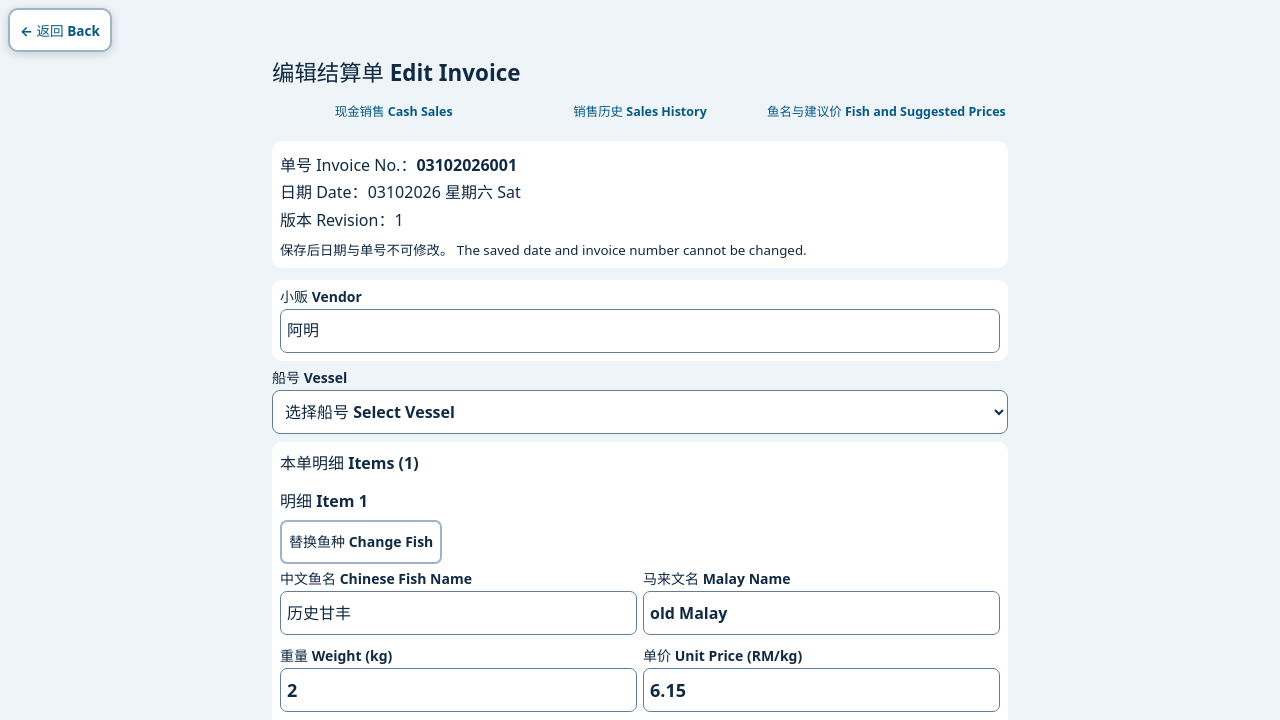
it: Retail 30-day editing › protects a genuine edit and clears the guard only after the update succeeds
Replace the text in the field labelled "小贩 Vendor" with "修改小贩". click: (640, 331)
box: [280,309,1000,353]
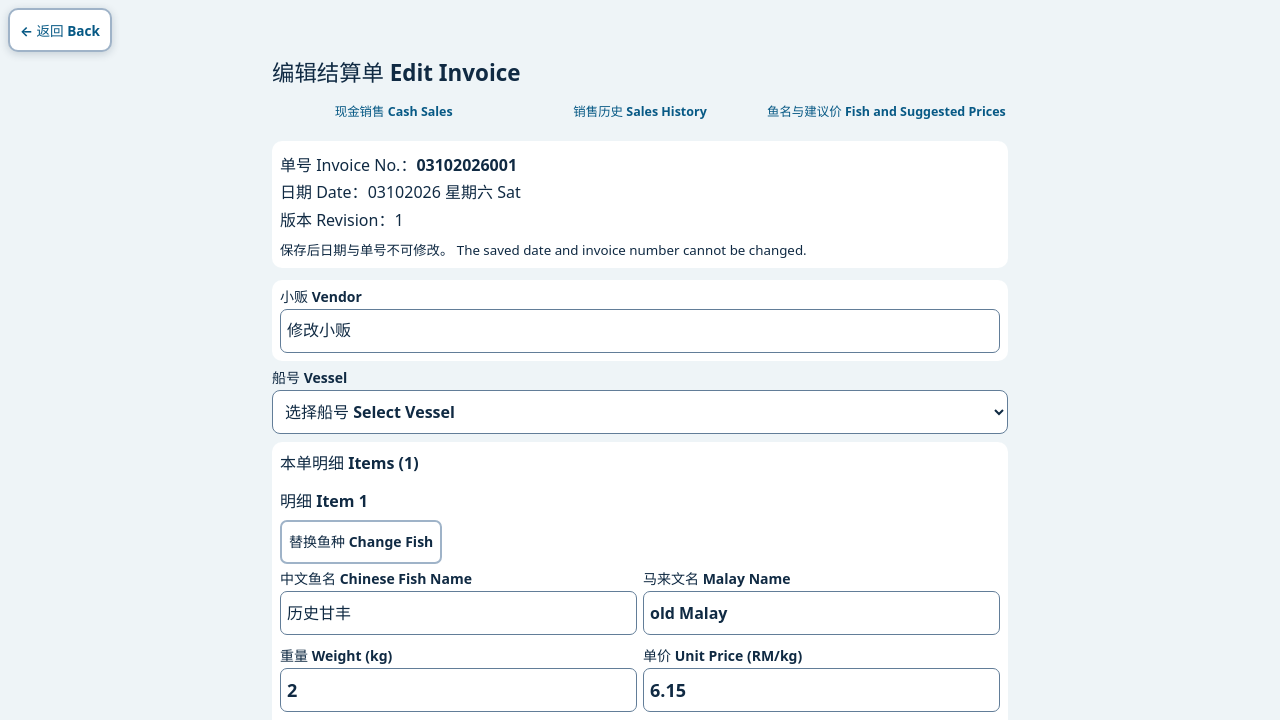
Click the button "← 返回 Back". click: click(60, 30)
box: [8,8,112,52]
(page scrolled)
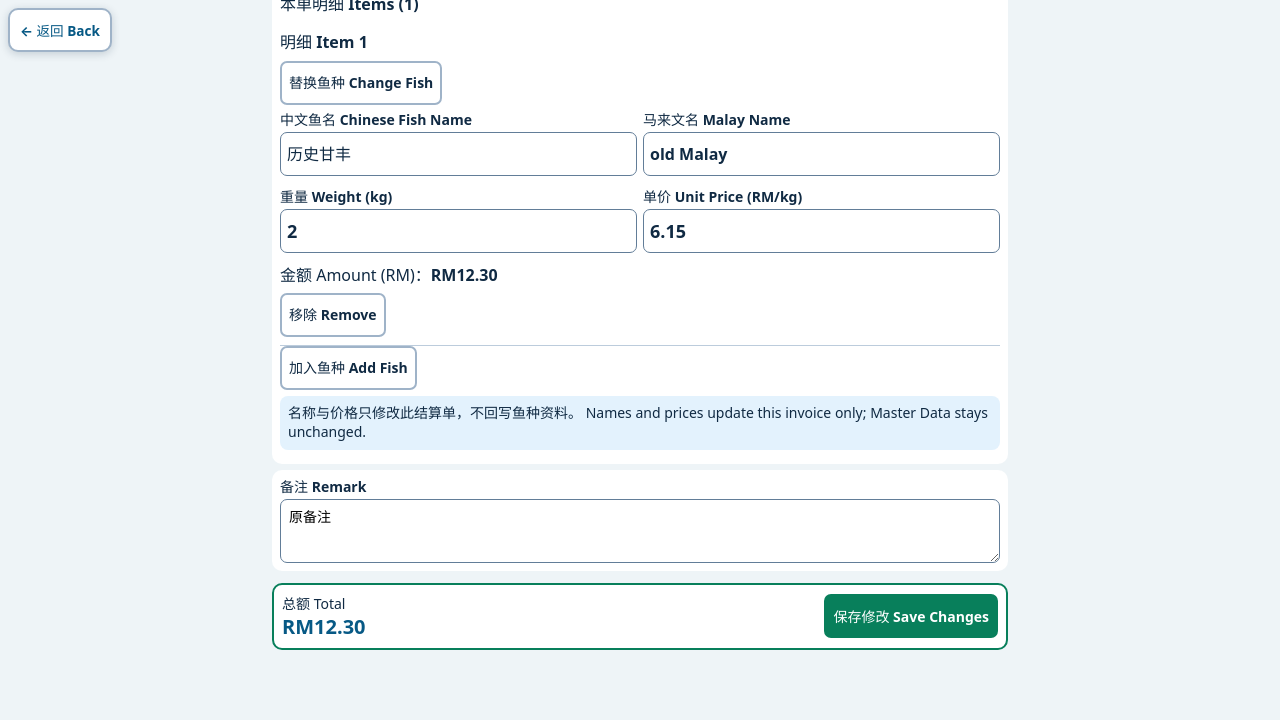
Click the button "保存修改 Save Changes". click: click(911, 616)
box: [824,594,998,638]
(page scrolled)
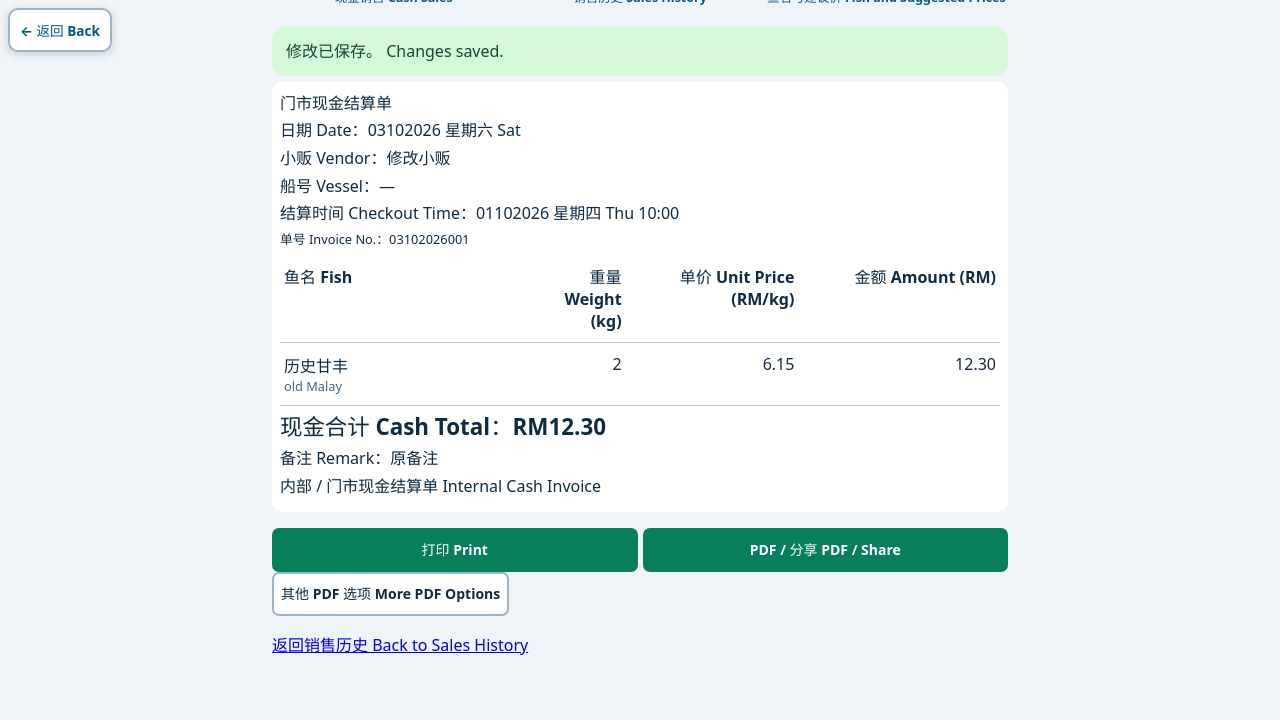
Now the text "修改已保存。 Changes saved." is shown, box [272,27,1008,76]
